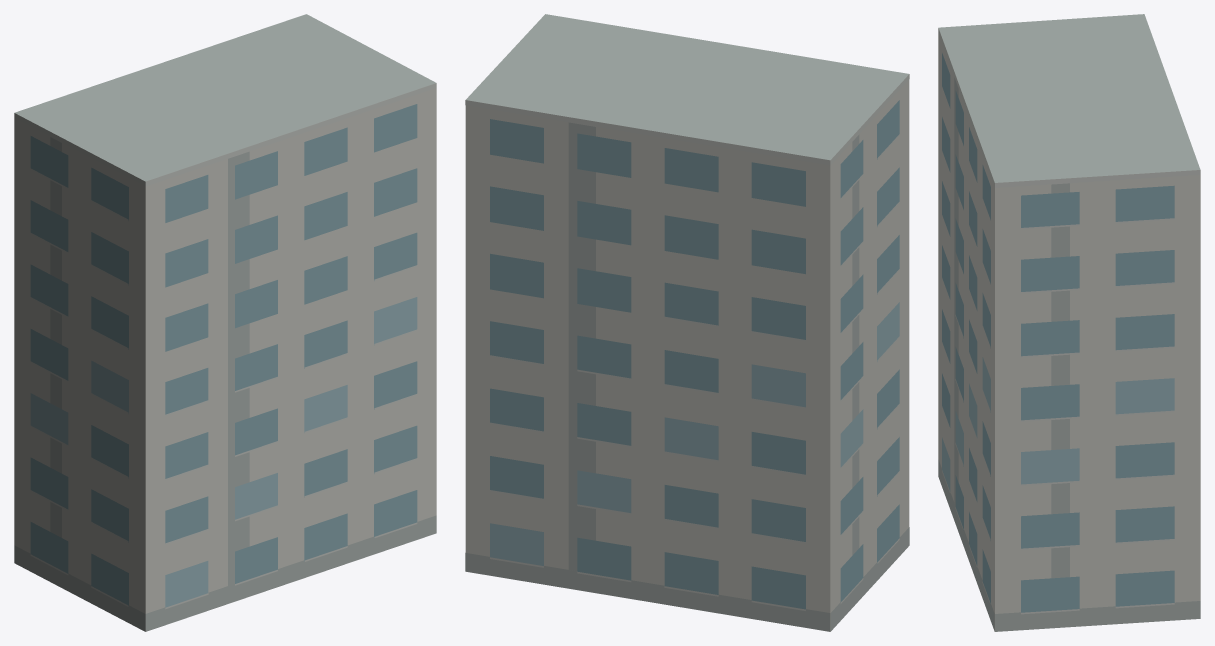
The model's file is survey-upis-32575974.glb.
3 renders of one model, left to right at view 1: azimuth 30°, elevation 25°; view 2: azimuth 150°, elevation 25°; view 3: azimuth 270°, elevation 25°, orthographic. The views are drawn at different scales.
Parts seen in each view (by area): view 1: survey-upis-32575974.tmp; view 2: survey-upis-32575974.tmp; view 3: survey-upis-32575974.tmp.
Boxes of the visible parts, box(x1,y1,x2,y2) form: survey-upis-32575974.tmp: box(14, 14, 436, 631); survey-upis-32575974.tmp: box(465, 14, 909, 631); survey-upis-32575974.tmp: box(938, 14, 1200, 631).
Bounding box in the file's own units: 17.25 × 21.35 × 11.31.
